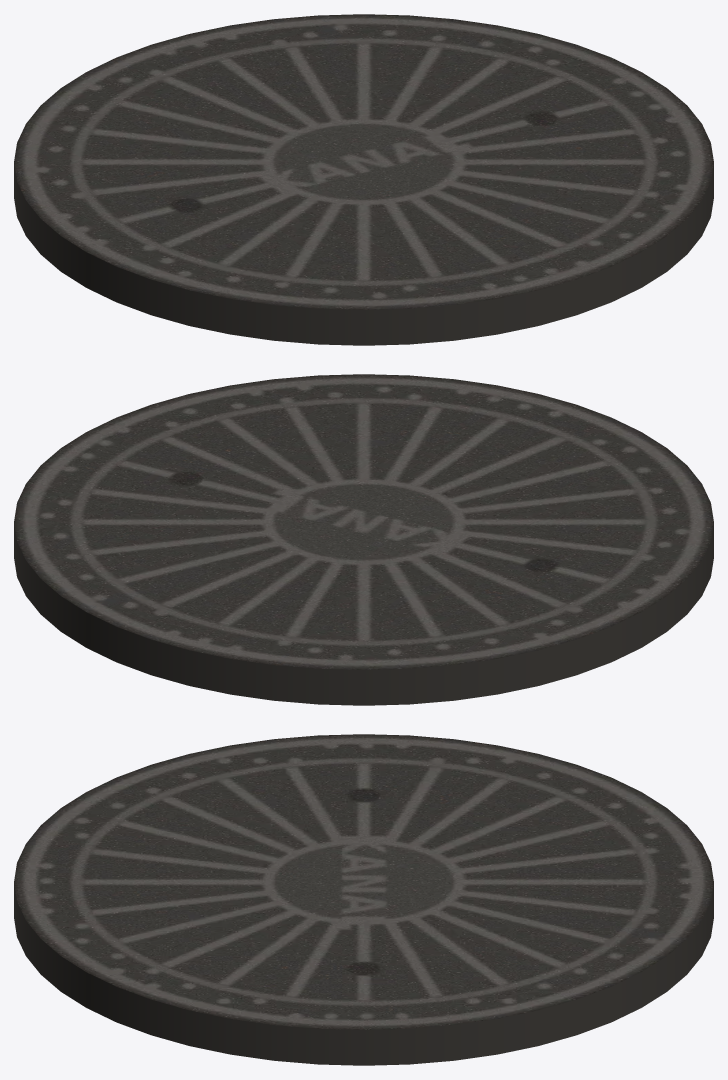
Rendered from manhole-cover.glb.
The picture shows the model from 3 angles, top to bottom: view 1: azimuth 30°, elevation 25°; view 2: azimuth 150°, elevation 25°; view 3: azimuth 270°, elevation 25°; orthographic projection.
Visible parts, largest first — view 1: Cover; view 2: Cover; view 3: Cover.
Part boxes in pixels (bbox=[...]): Cover: bbox=[14, 14, 713, 345]; Cover: bbox=[14, 374, 713, 705]; Cover: bbox=[14, 734, 713, 1065].
Size of the model in its own units: 0.62 by 0.035 by 0.62.
Materials: 1 (1 with a texture image).
